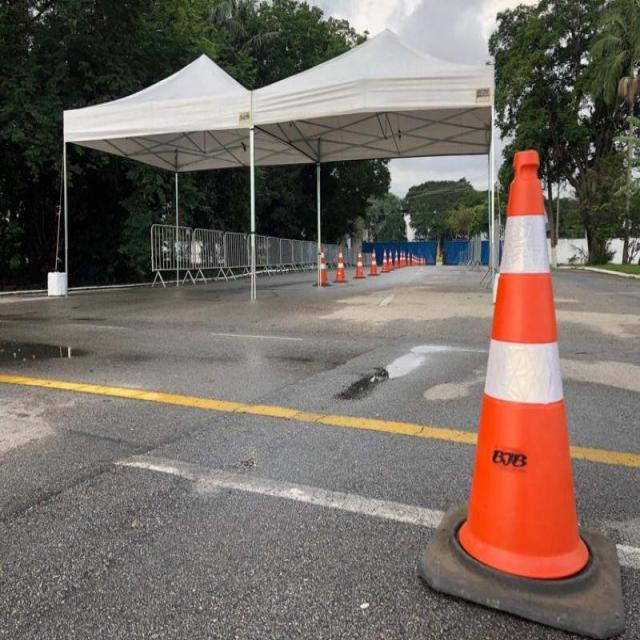cone: (476, 150, 574, 582), (317, 248, 329, 284), (334, 250, 347, 278), (354, 251, 364, 276), (368, 250, 379, 272), (378, 250, 388, 268)
